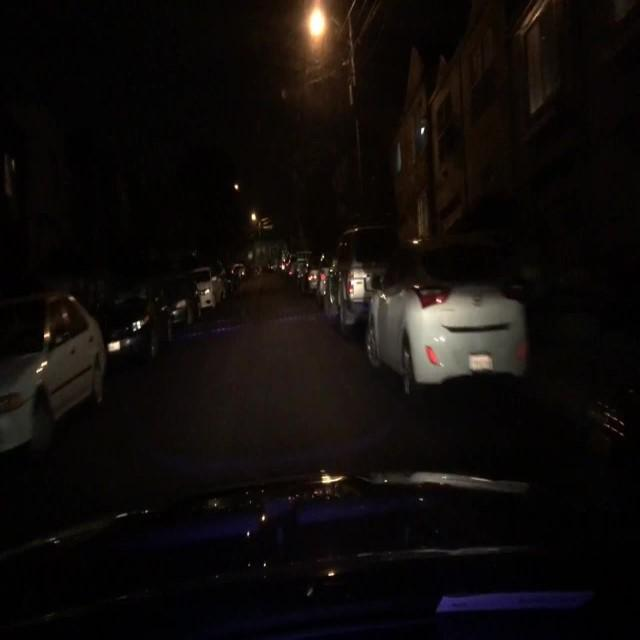normal: (266, 191, 560, 422), (0, 239, 266, 473)
